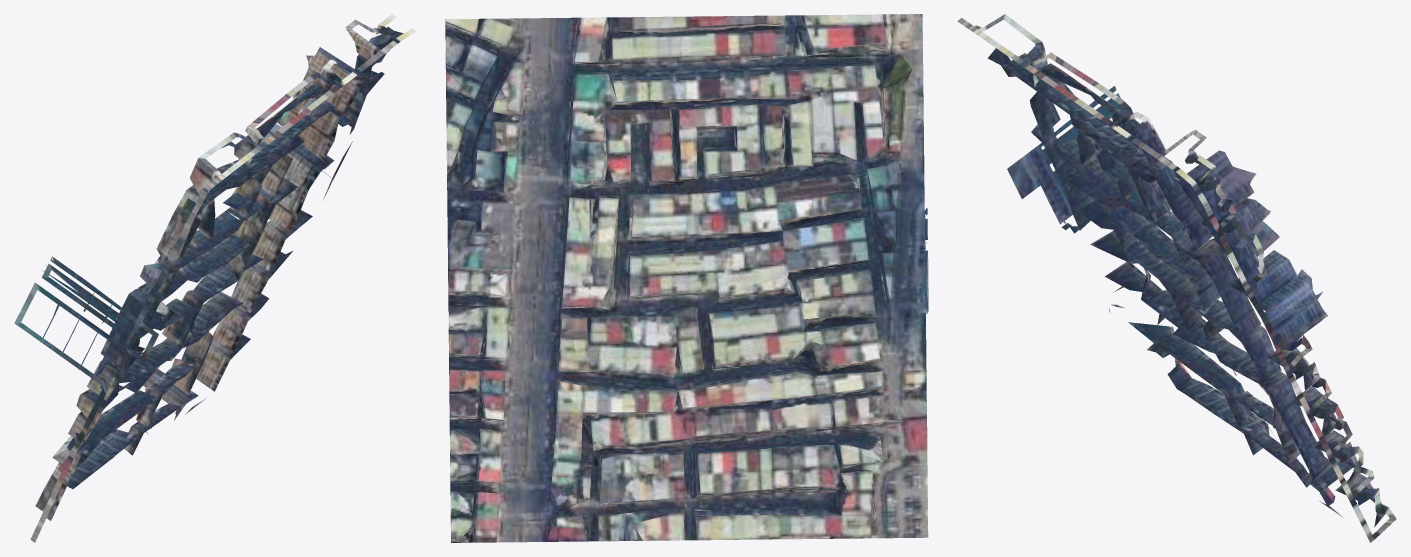
3 views of the same model, side by side, from view 1: azimuth 30°, elevation 25°; view 2: azimuth 150°, elevation 25°; view 3: azimuth 270°, elevation 25° (orthographic). The views are drawn at different scales.
Bounding box in the file's own units: 311 × 290 × 271.
Materials: 1 (1 with a texture image).
